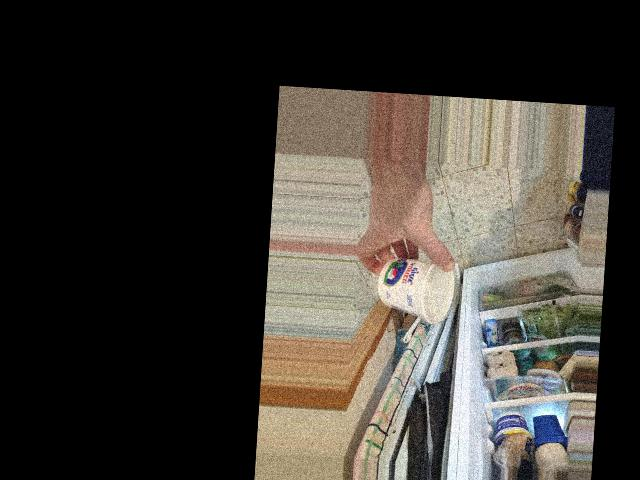cotage: (372, 244, 460, 327)
